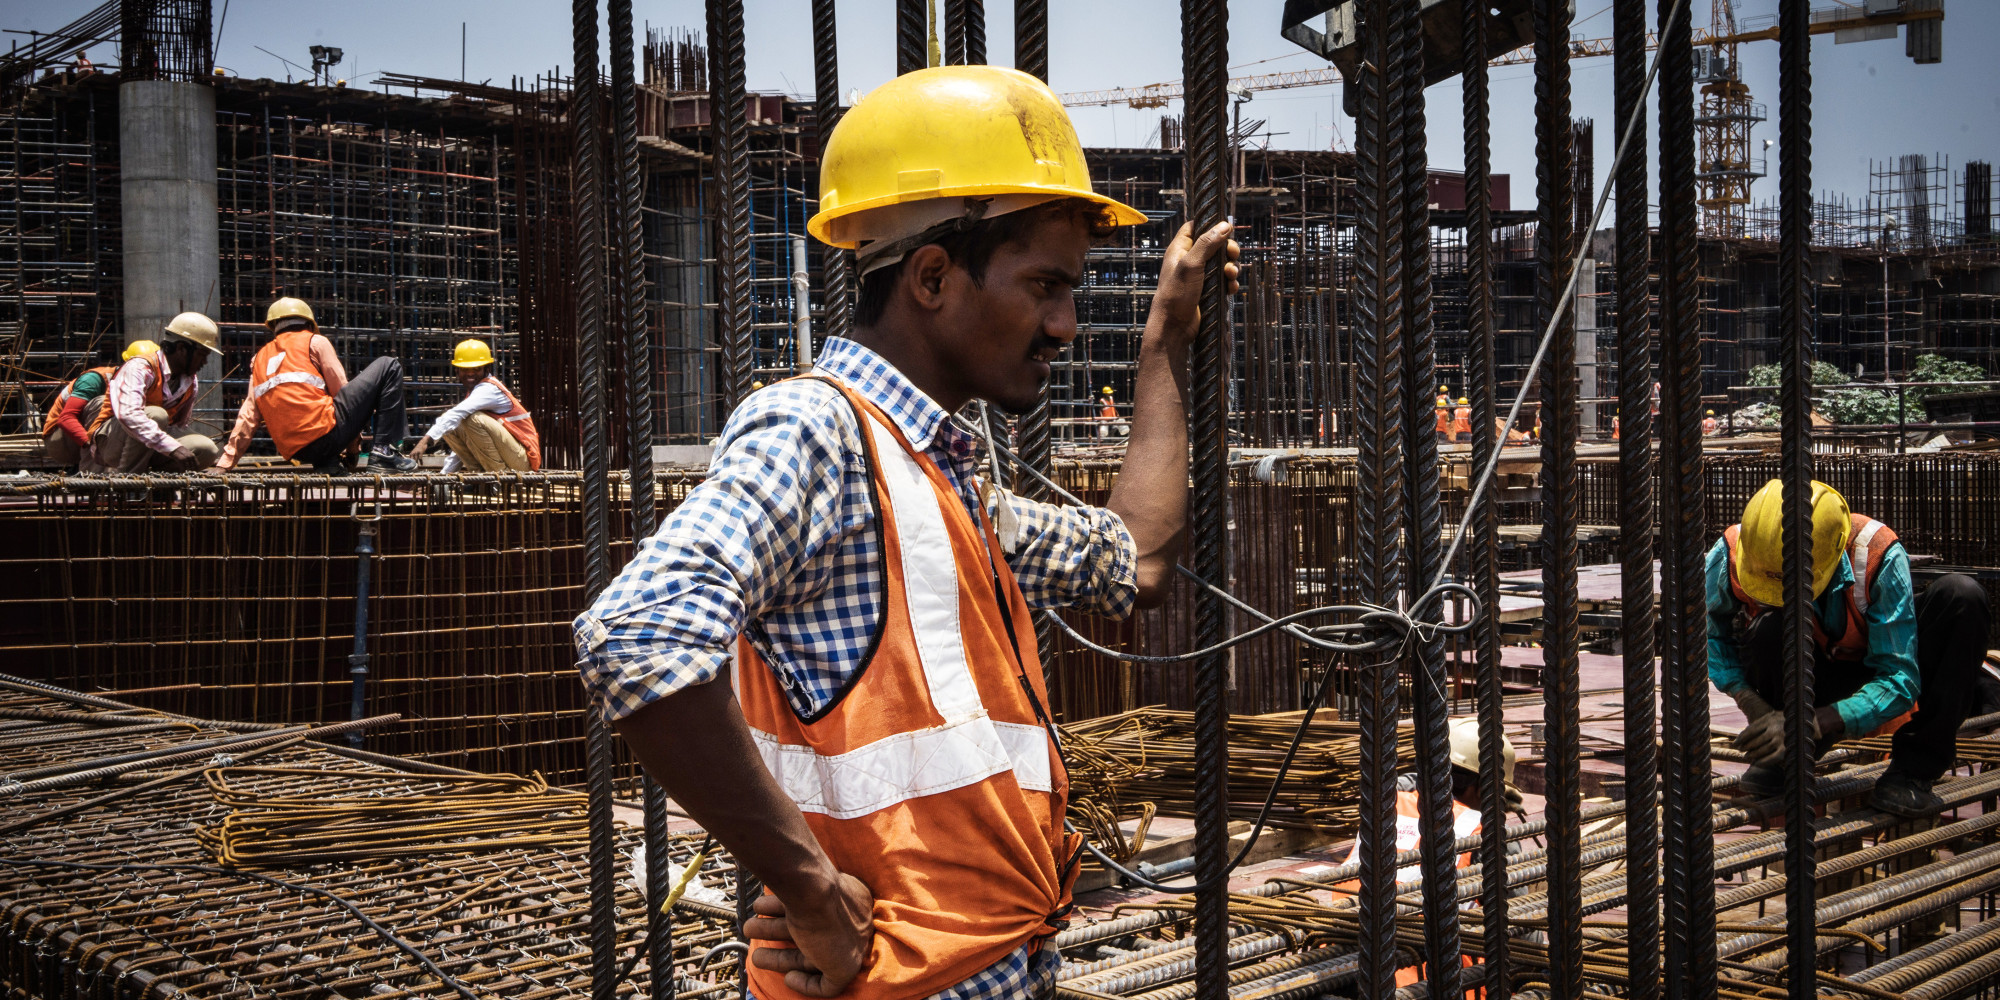SAFE: (739, 59, 1136, 952), (241, 290, 346, 446)
